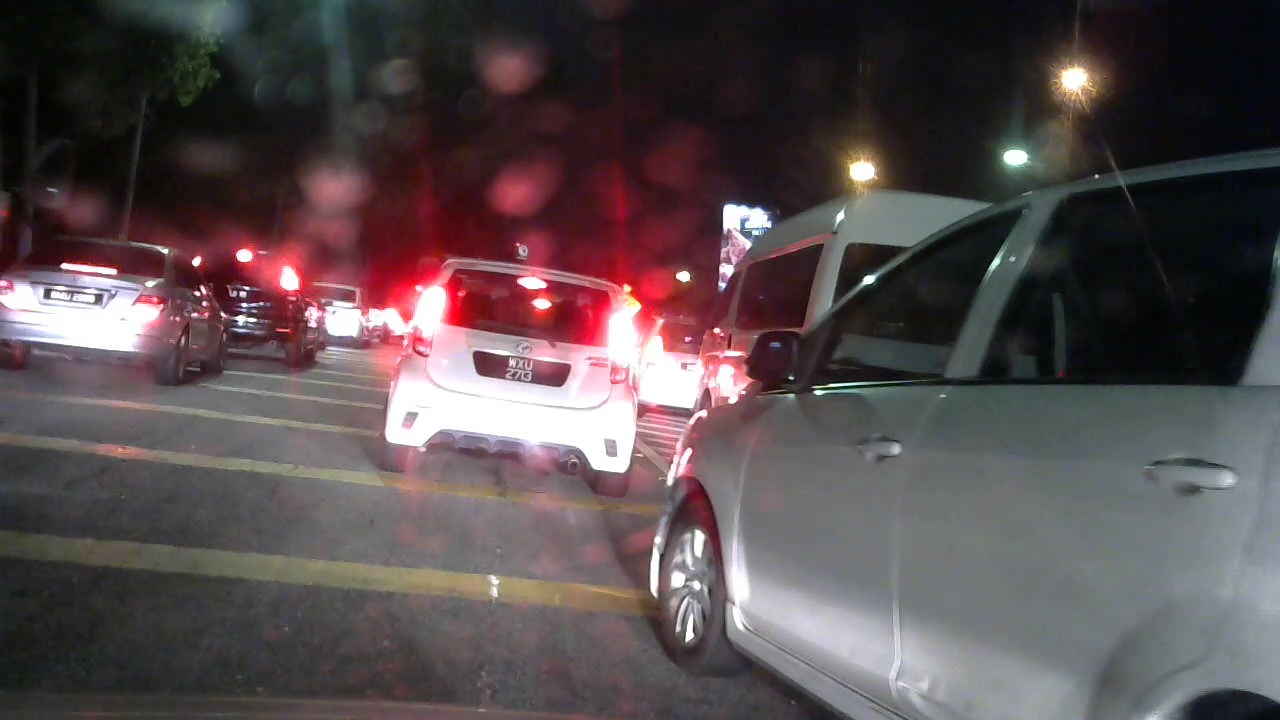Car: (634, 145, 1273, 715), (373, 242, 653, 501), (1, 220, 231, 382), (209, 246, 339, 366), (304, 271, 378, 342)
